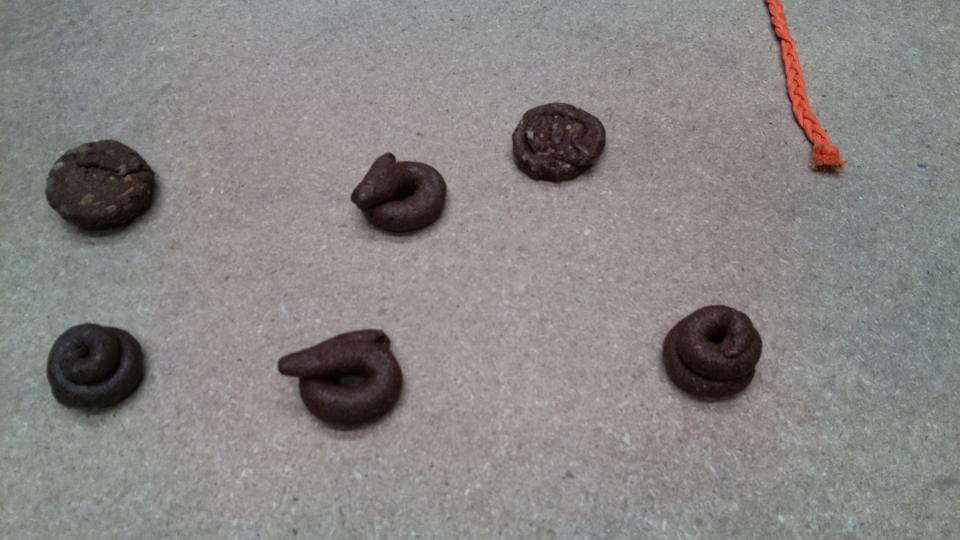poop: (276, 326, 404, 433), (43, 136, 161, 238), (660, 300, 765, 408), (43, 320, 149, 416), (347, 148, 452, 241), (508, 100, 609, 187)
rope: (763, 1, 849, 179)
